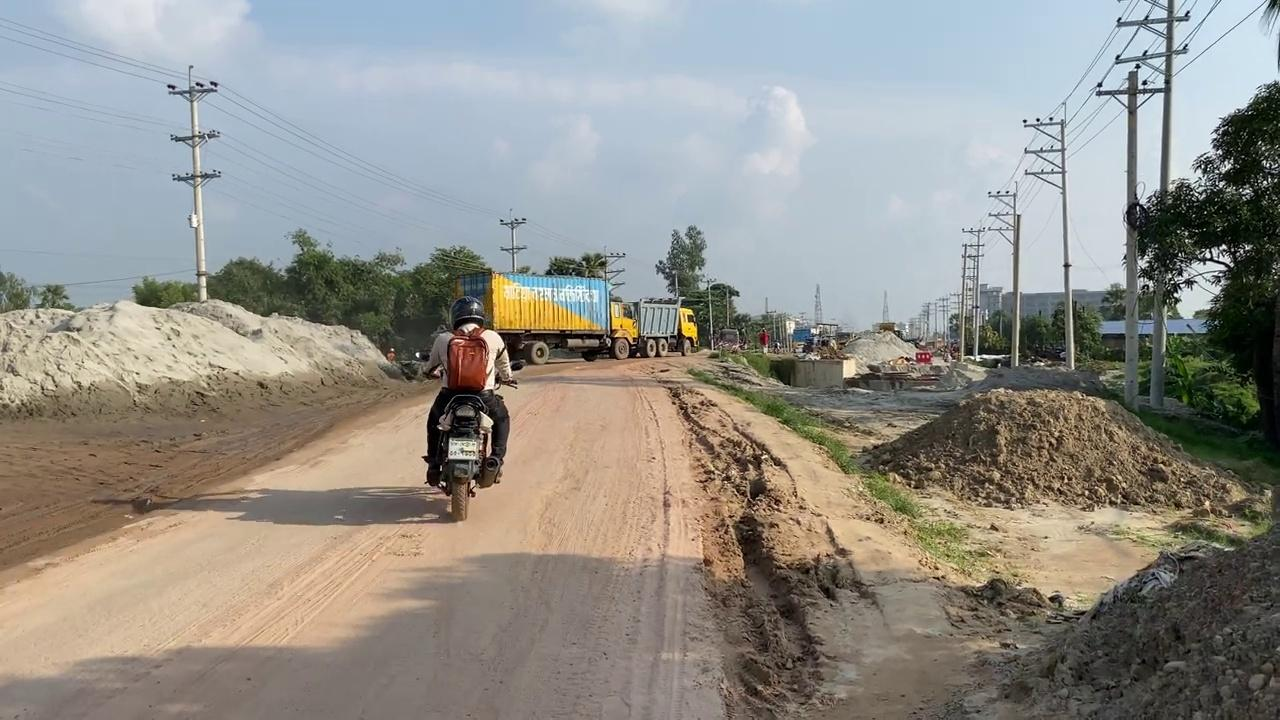Light-pole: (165, 64, 221, 301)
Motorcycle: (416, 355, 518, 521)
Obstacle: (767, 354, 856, 388)
Pole: (1114, 0, 1191, 409), (1095, 65, 1166, 411), (1022, 115, 1075, 370), (1122, 67, 1140, 412)
Traffic-sign: (1122, 77, 1279, 446), (654, 223, 706, 303)
Tree: (451, 268, 698, 366), (609, 296, 698, 358), (789, 282, 846, 357), (791, 324, 844, 358)
